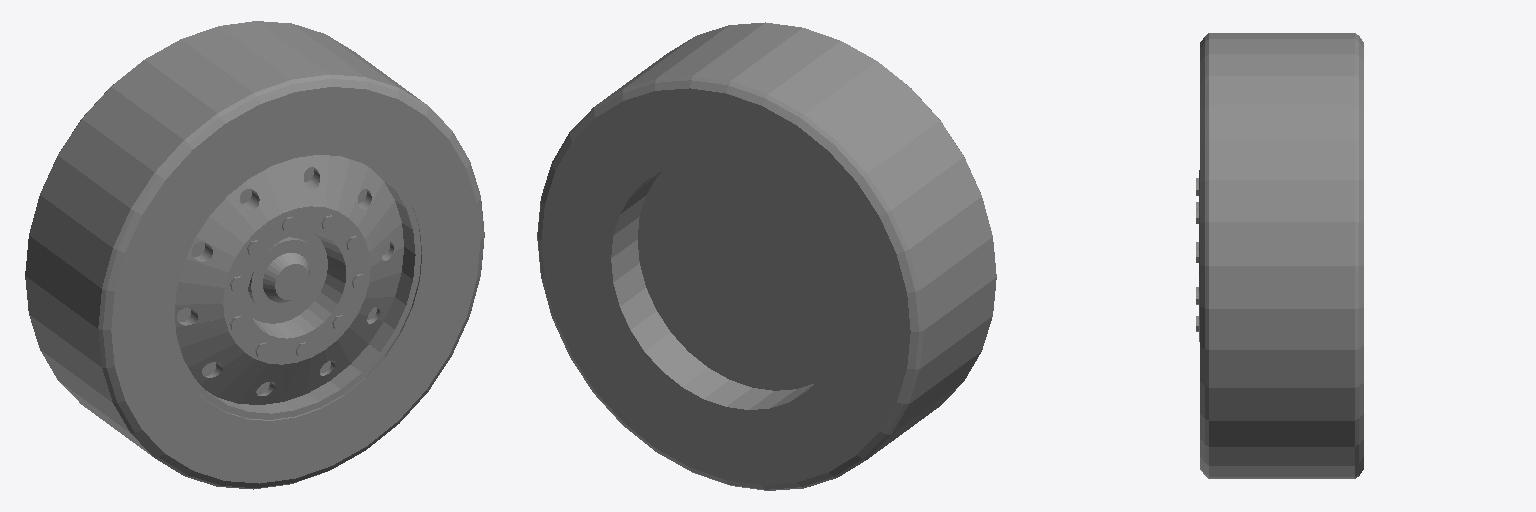
The model's file is ALlTIz.obj.
3 renders of one model, left to right at view 1: azimuth 30°, elevation 25°; view 2: azimuth 150°, elevation 25°; view 3: azimuth 270°, elevation 25°, orthographic.
Visible parts, largest first — view 1: ALlTIz; view 2: ALlTIz; view 3: ALlTIz.
Part boxes in pixels (bbox=[...]): ALlTIz: bbox=[25, 21, 484, 489]; ALlTIz: bbox=[537, 22, 996, 490]; ALlTIz: bbox=[1196, 33, 1363, 478].
Size of the model in its own units: 0.7126 by 0.7126 by 0.2682.